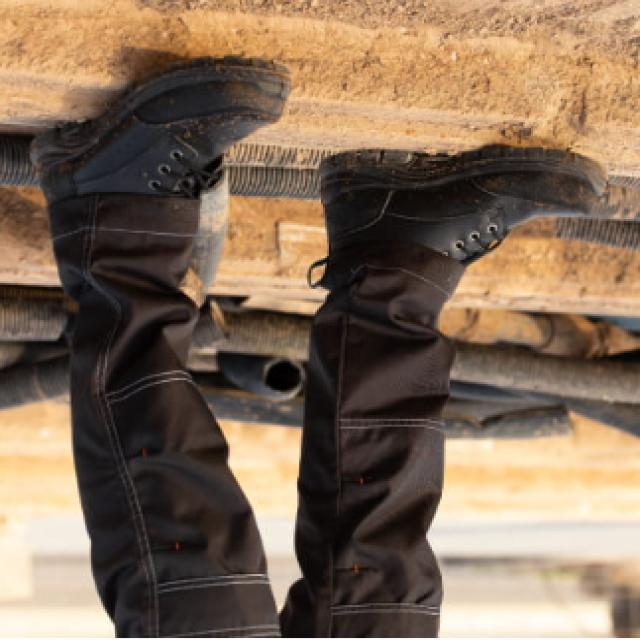boots: (26, 58, 613, 305)
